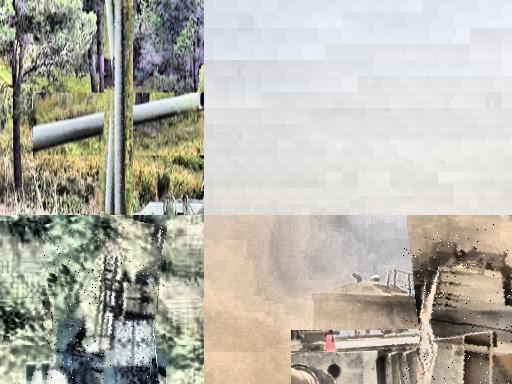tanks: (45, 226, 166, 384), (413, 249, 512, 384), (115, 1, 125, 215), (128, 195, 205, 216), (111, 197, 126, 216)
